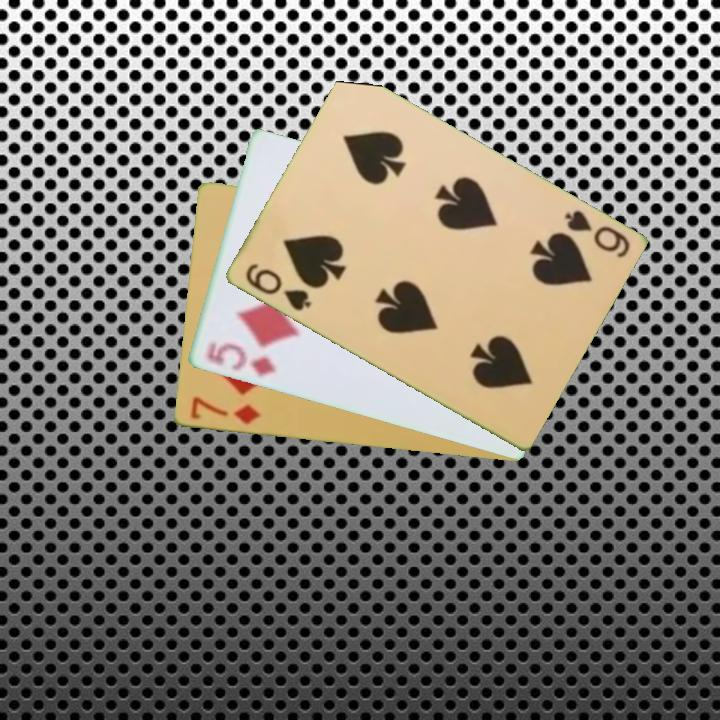5d: (203, 339, 278, 380)
6s: (241, 259, 314, 315), (560, 206, 633, 261)
7d: (186, 393, 264, 428)
